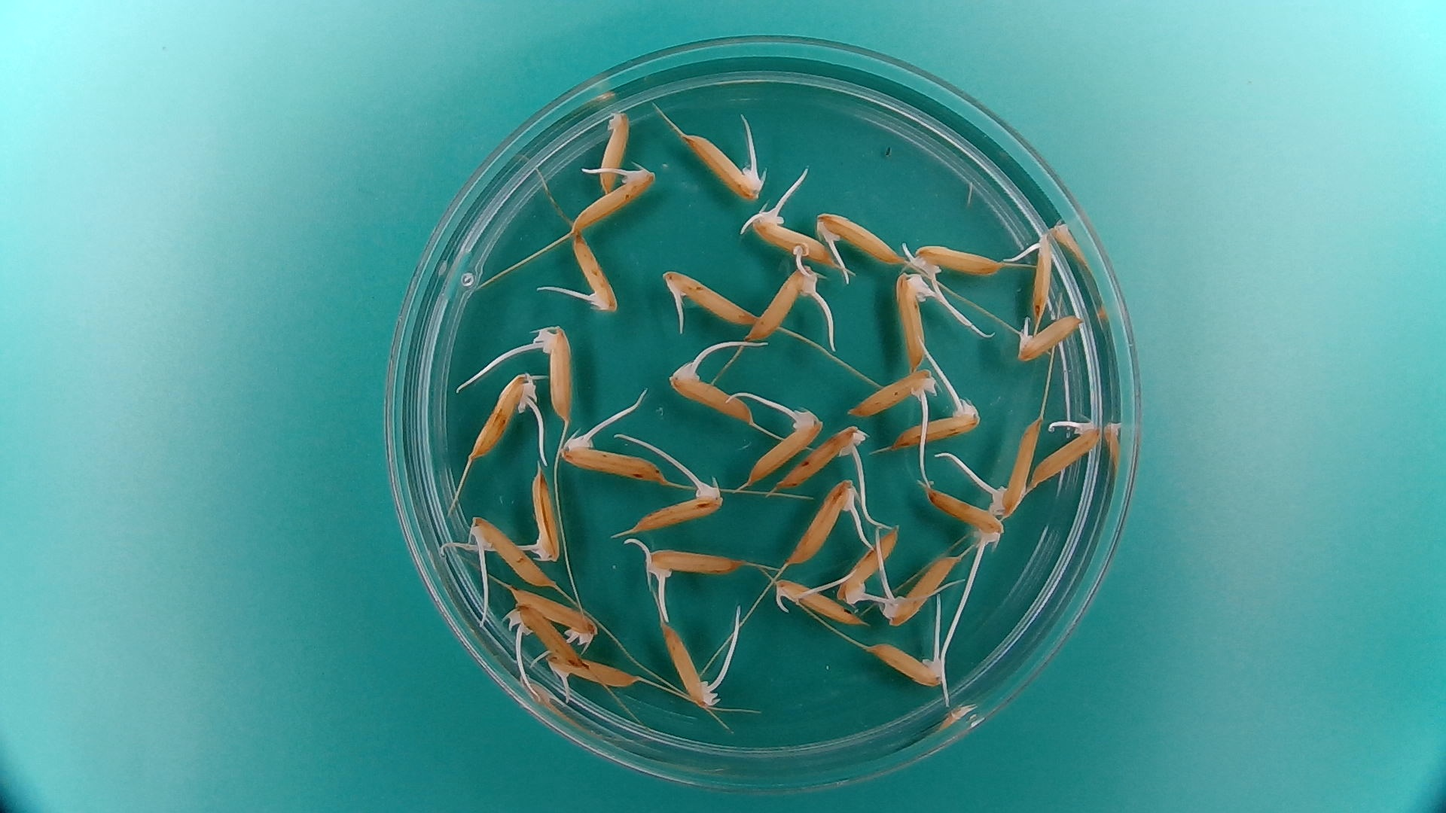no: (590, 104, 631, 192)
yes: (786, 476, 857, 567), (683, 129, 768, 203), (471, 517, 556, 589), (745, 406, 823, 484), (811, 206, 909, 268), (629, 473, 726, 534), (988, 415, 1044, 520), (881, 552, 959, 627), (920, 480, 1005, 547), (468, 376, 535, 461), (569, 168, 654, 234), (776, 426, 864, 489), (660, 619, 721, 709), (748, 260, 813, 343), (665, 270, 756, 329), (891, 265, 941, 371), (507, 585, 597, 643), (664, 367, 754, 425), (844, 364, 938, 419), (747, 206, 837, 263), (837, 525, 901, 604), (1030, 419, 1101, 487), (563, 437, 666, 483), (505, 605, 585, 664), (531, 324, 578, 423), (569, 230, 621, 316), (640, 543, 743, 586), (889, 400, 977, 449), (1014, 305, 1086, 362), (543, 654, 647, 692), (776, 581, 861, 627), (525, 464, 563, 564), (912, 239, 1005, 279), (866, 641, 945, 688), (1021, 229, 1059, 315)
